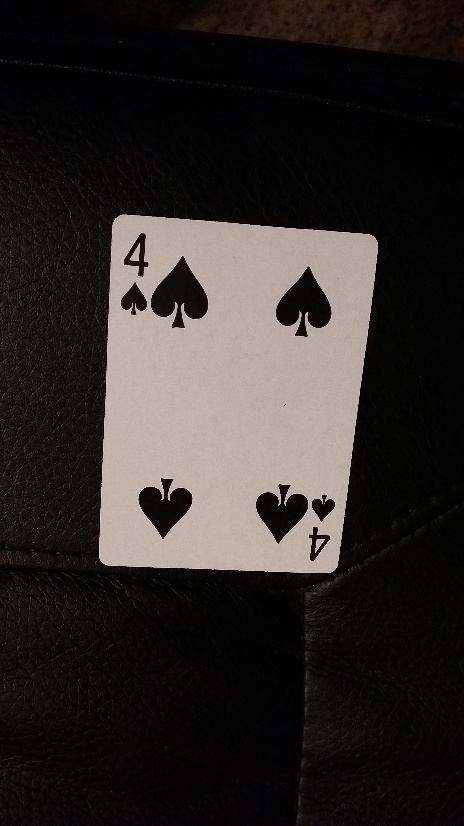S4: (121, 225, 152, 320), (309, 491, 336, 561)
